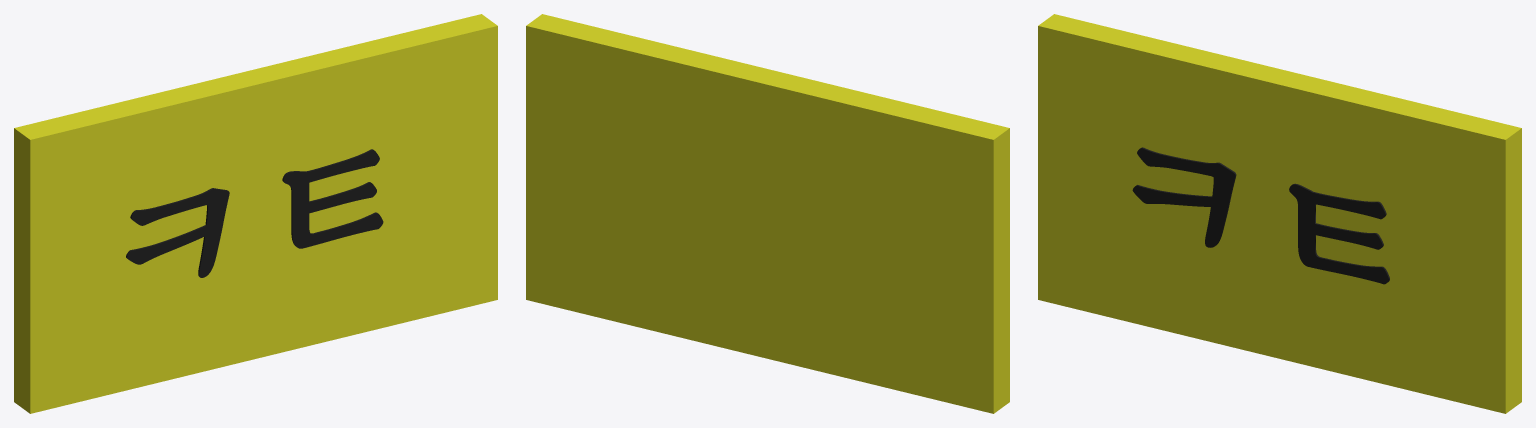
3 views of the same model, side by side, from view 1: azimuth 30°, elevation 25°; view 2: azimuth 150°, elevation 25°; view 3: azimuth 330°, elevation 25° (orthographic).
Visible parts, largest first — view 1: Cube.009; view 2: Cube.009; view 3: Cube.009.
Part boxes in pixels (box(x1,y1,x2,y2)): Cube.009: box(14, 14, 497, 413); Cube.009: box(526, 14, 1009, 413); Cube.009: box(1038, 14, 1521, 413).
Size of the model in its own units: 10 by 5.6 by 0.64.
